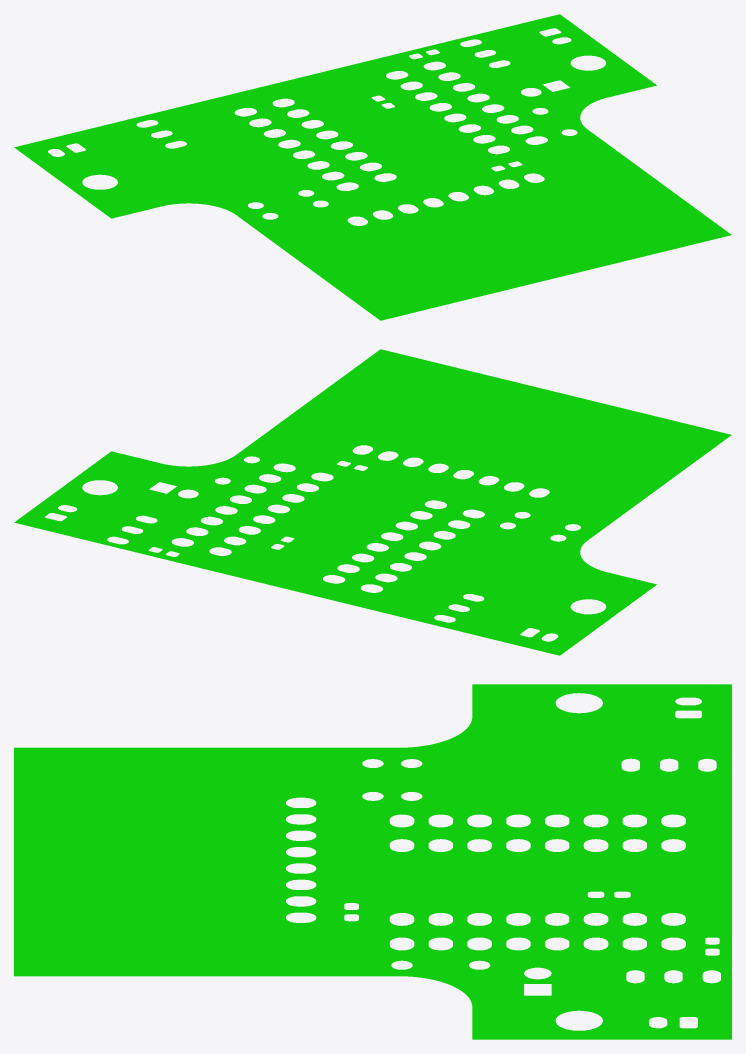
File: pendulum_robot_2_wheels_mini_motor_inverted_pendulum_soldermask_zwfngc.dae
3 renders of one model, top to bottom at view 1: azimuth 30°, elevation 25°; view 2: azimuth 150°, elevation 25°; view 3: azimuth 270°, elevation 25°, orthographic. The views are drawn at different scales.
Visible parts, largest first — view 1: node0; view 2: node0; view 3: node0.
Part boxes in pixels (<box>): node0: <box>14,14,731,320</box>; node0: <box>14,349,731,655</box>; node0: <box>14,684,731,1039</box>.
Bounding box in the file's own units: 0.055 × 0.047 × 0.
